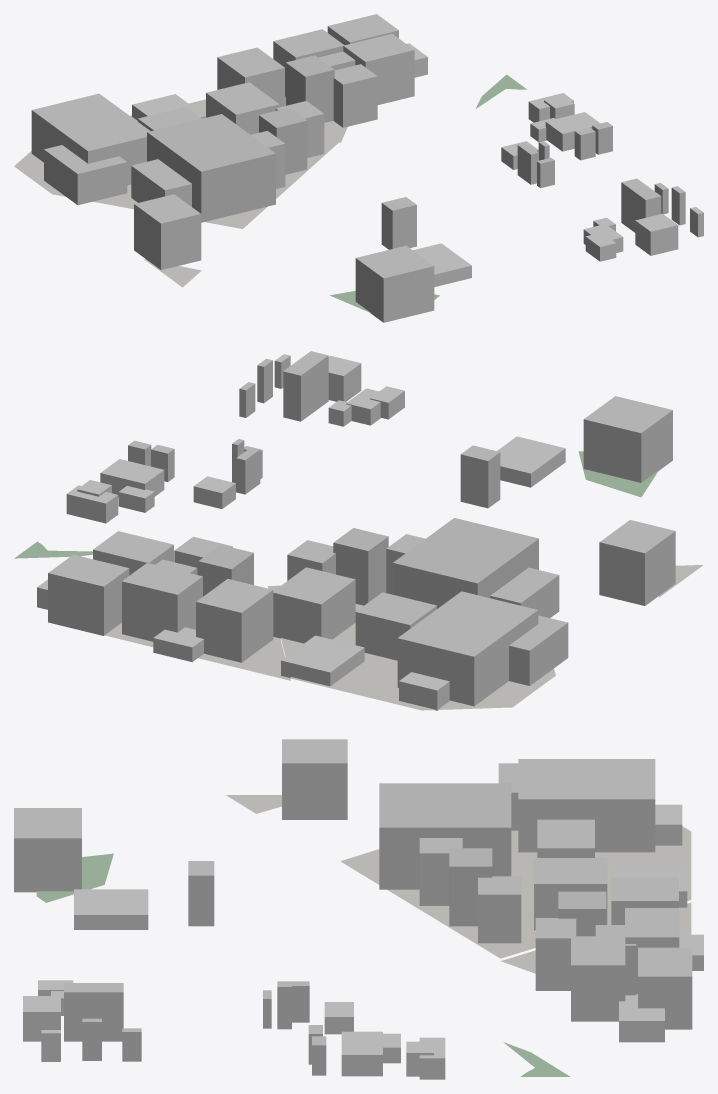
Rendered from 136_84_mid.glb.
3 views of the same model, one above another, from view 1: azimuth 30°, elevation 25°; view 2: azimuth 150°, elevation 25°; view 3: azimuth 270°, elevation 25° (orthographic). The views are drawn at different scales.
Bounding box in the file's own units: 506 × 55.42 × 527.
